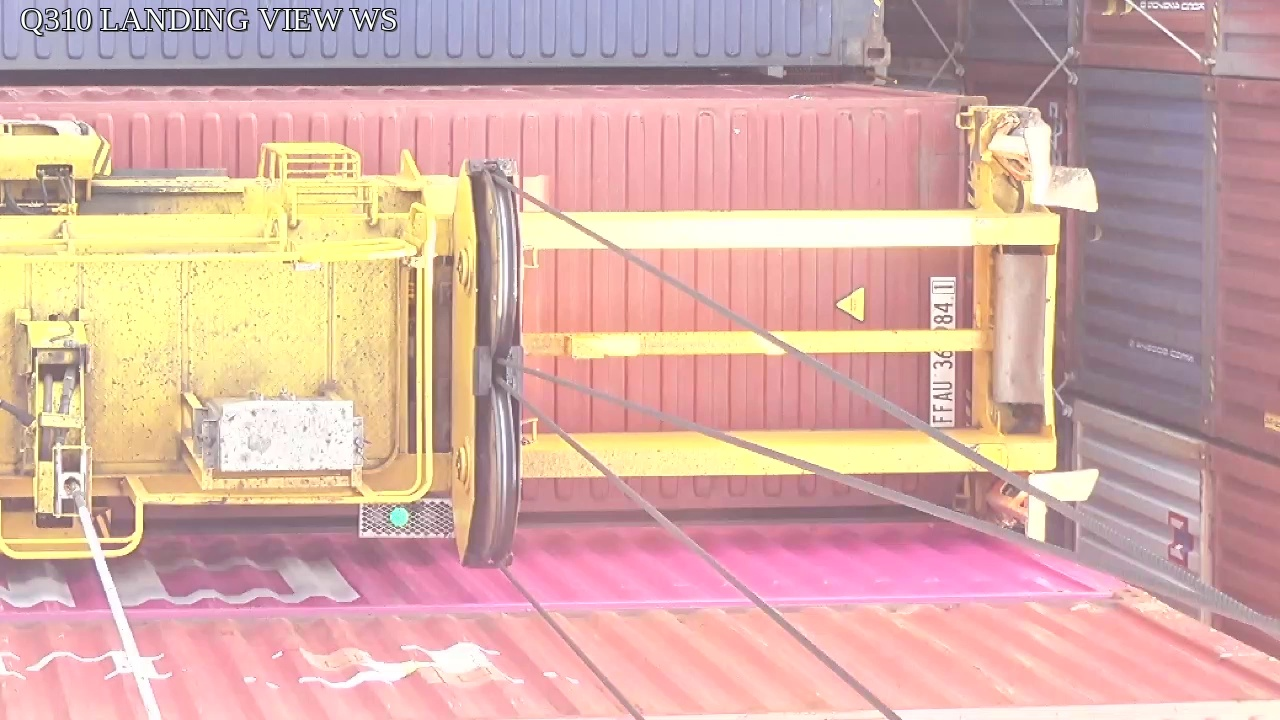right: (444, 160, 524, 568)
